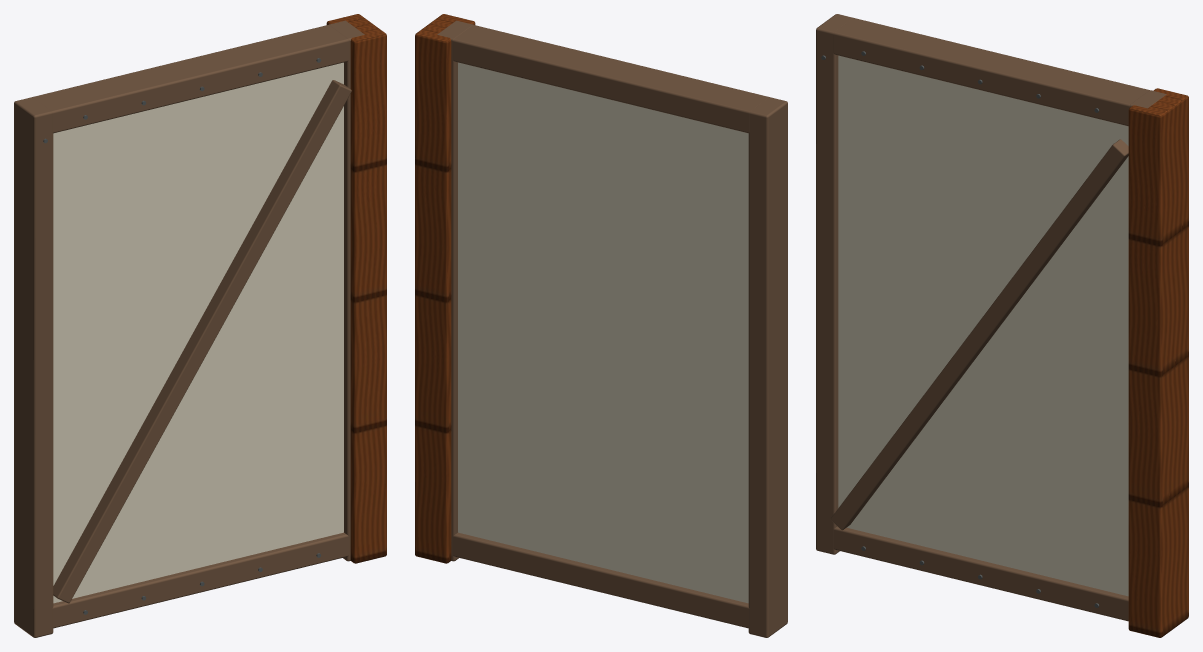
Rendered from adventurers-tavern-and-guild-hall-timber-wall-end-8bc29ad2__24667.glb.
3 views of the same model, side by side, from view 1: azimuth 30°, elevation 25°; view 2: azimuth 150°, elevation 25°; view 3: azimuth 330°, elevation 25° (orthographic).
Visible parts, largest first — view 1: timber-wall-end; view 2: timber-wall-end; view 3: timber-wall-end.
Boxes of the visible parts, x1,y1,x2,y2 form: timber-wall-end: [14, 14, 386, 637]; timber-wall-end: [415, 14, 787, 637]; timber-wall-end: [816, 14, 1188, 637].
Size of the model in its own units: 2.1 by 3 by 0.3049.
Materials: 4 (1 with a texture image).
